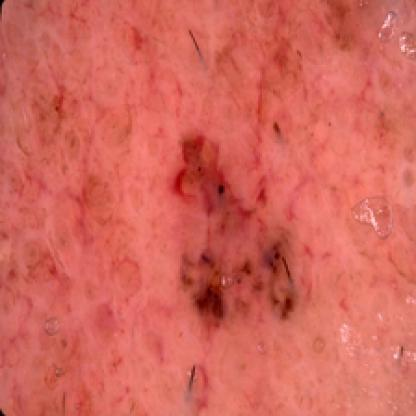malignant: (172, 134, 302, 344)
